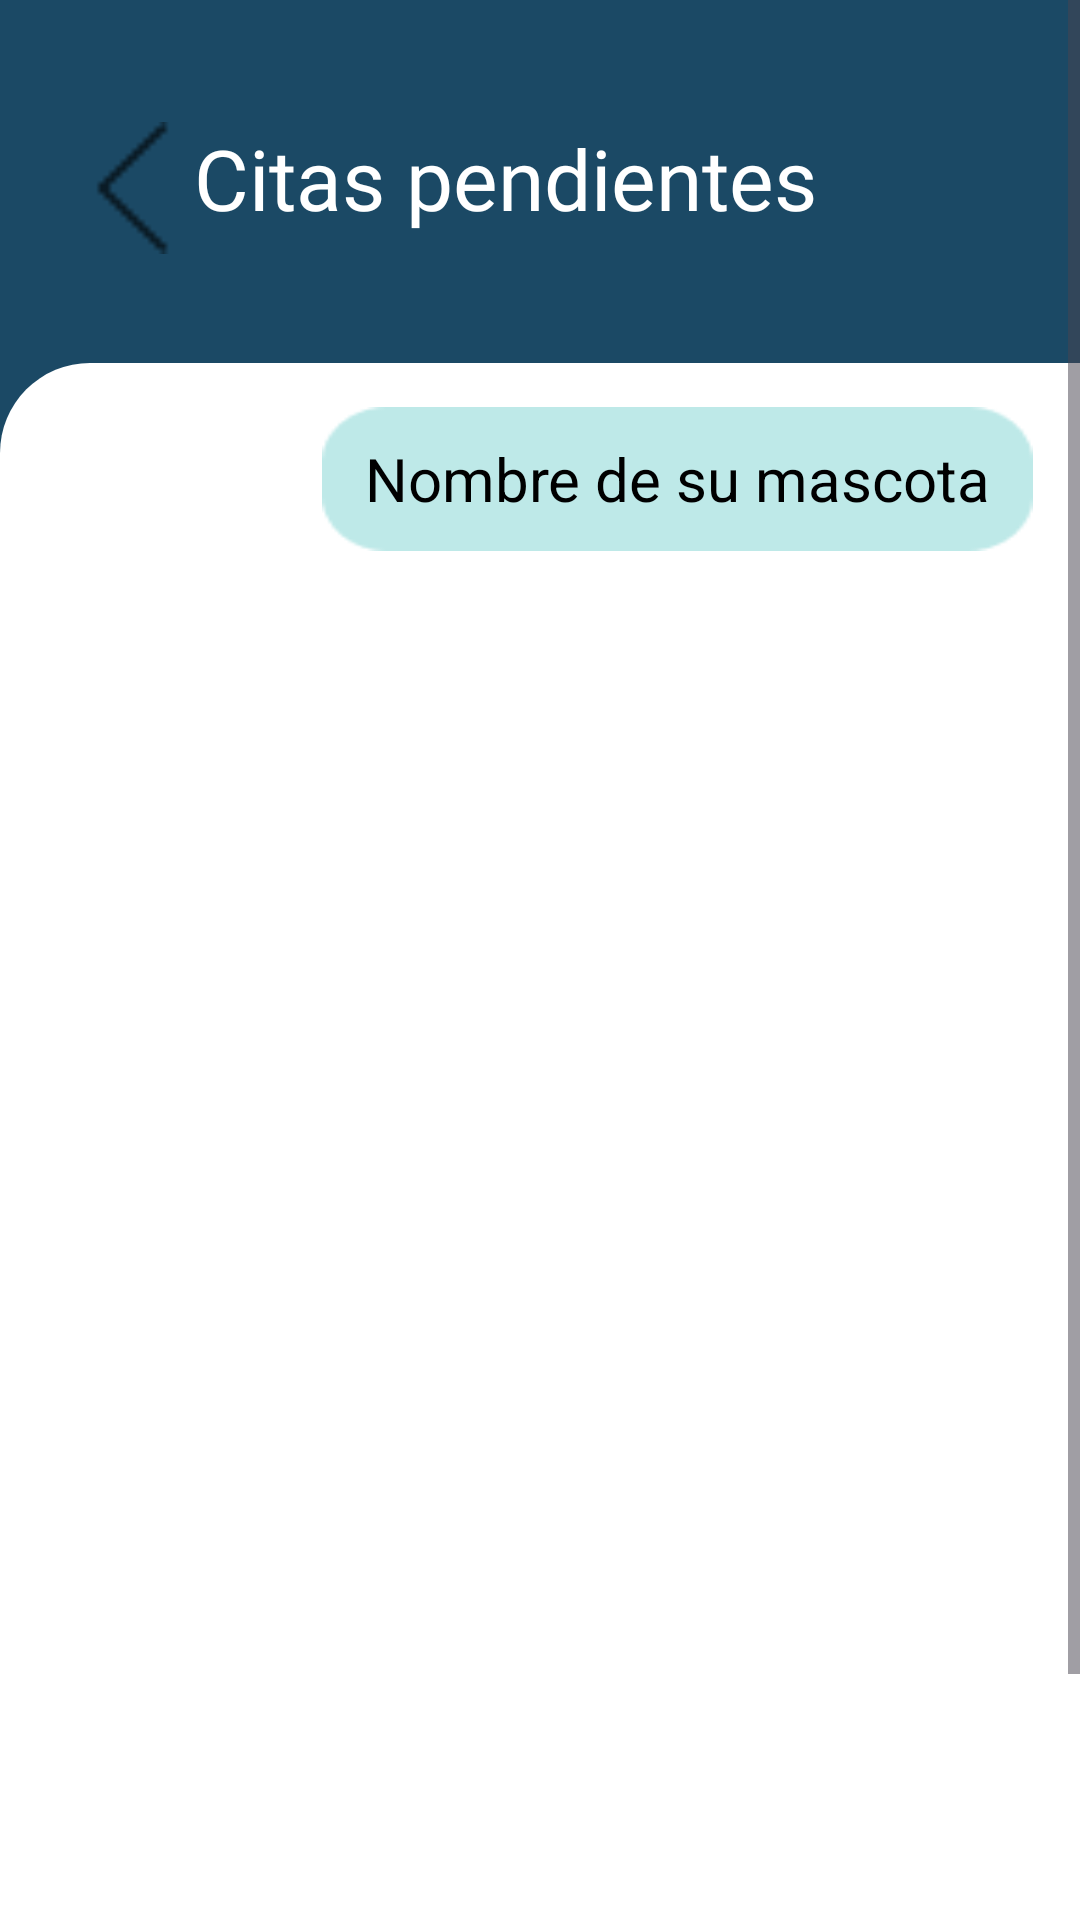

Point at icon controls on the screen. Image size 1080px x 1920px, points as (x,y).
flecha: (132,188)
